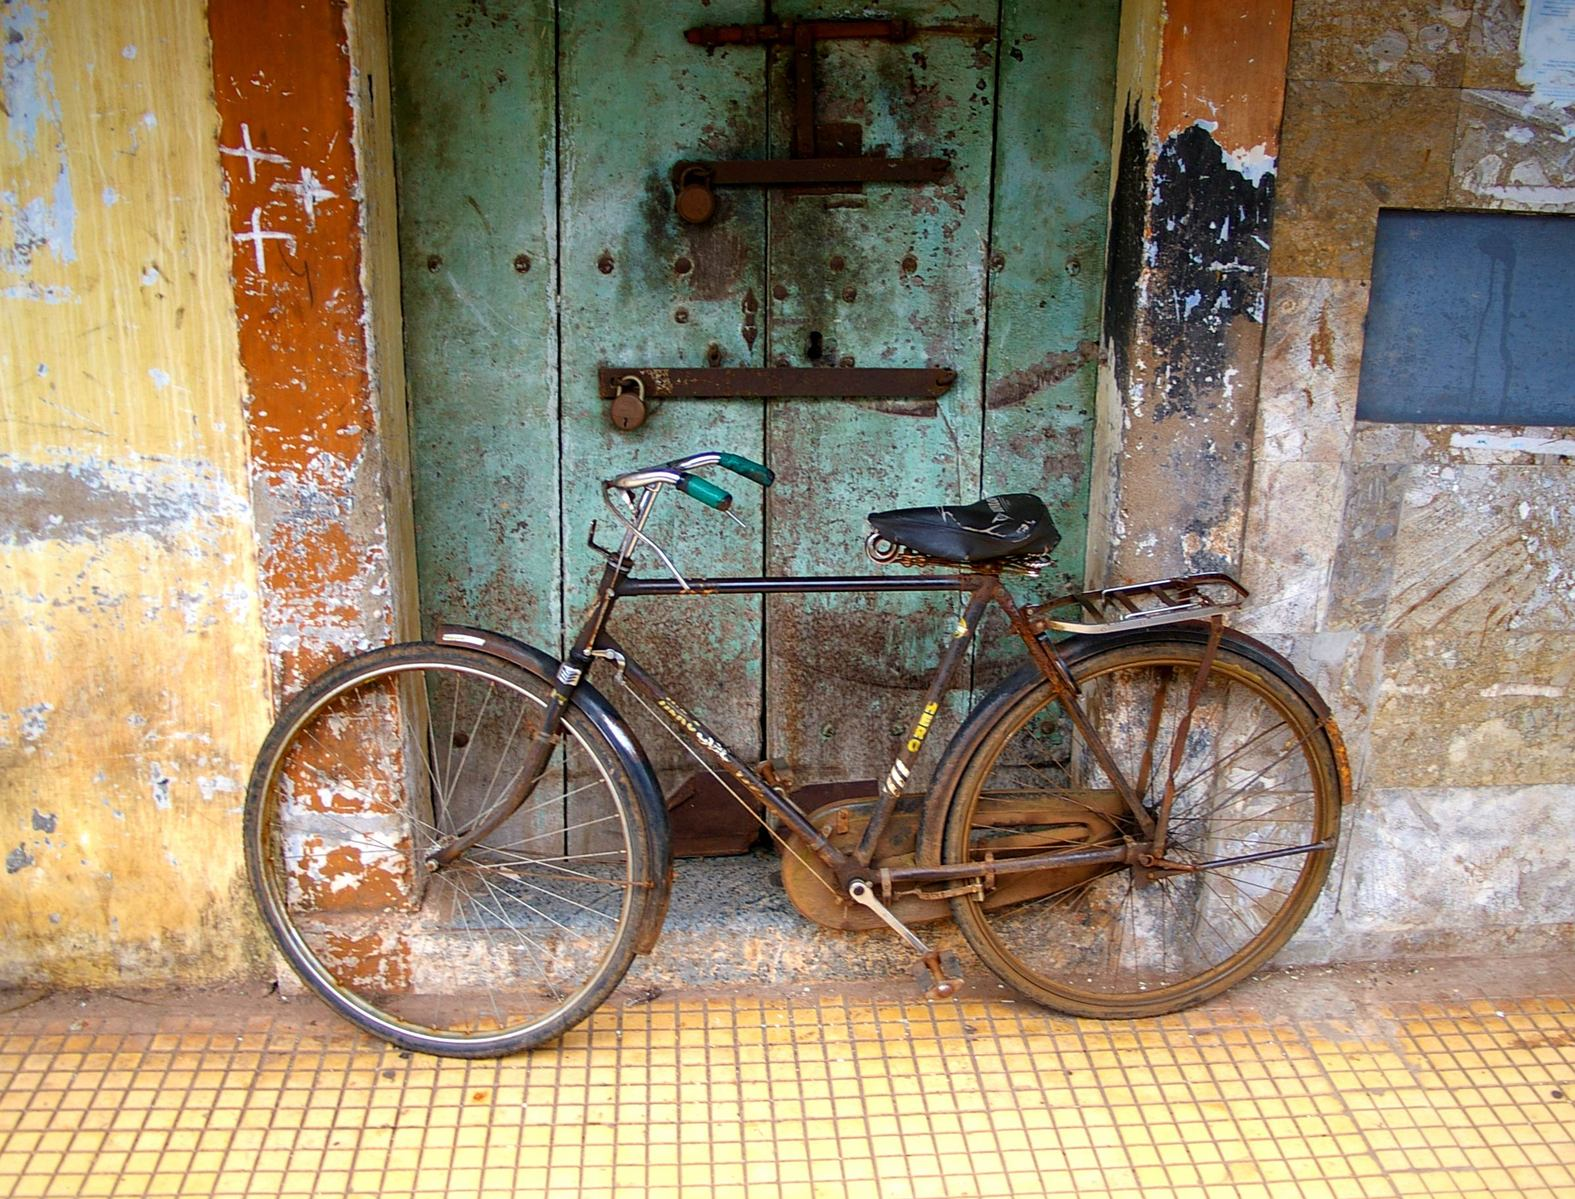Bicycle: (1, 1, 1575, 1145)
